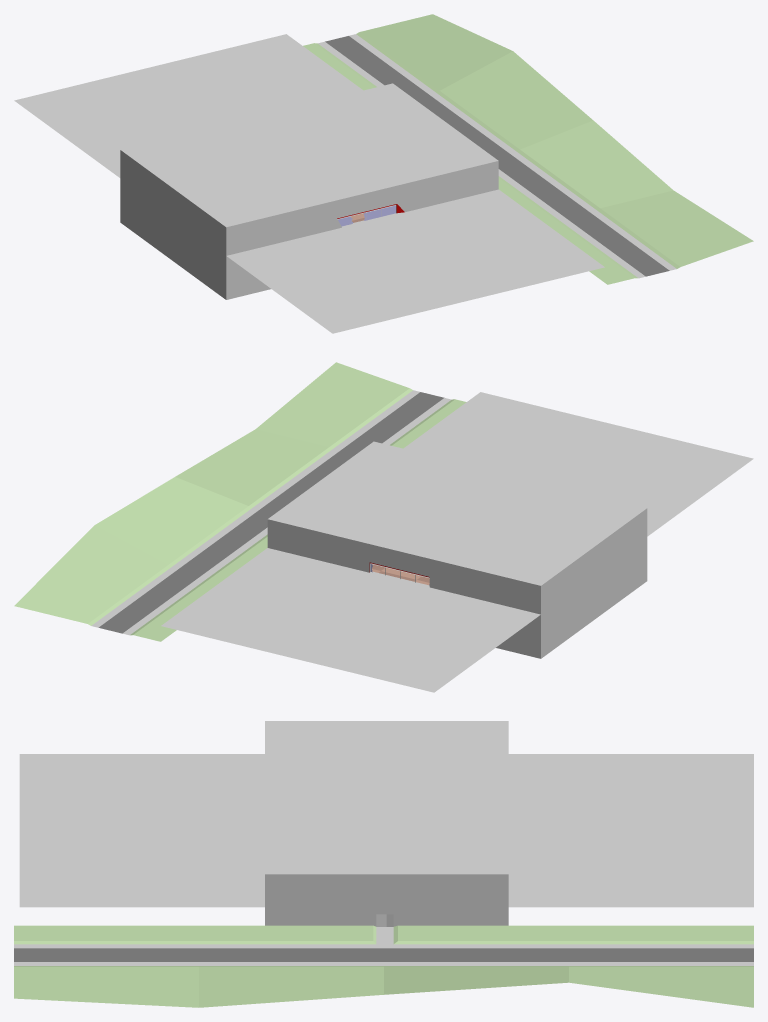
The model's file is Club.fbx.
3 views of the same model, one above another, from view 1: azimuth 30°, elevation 25°; view 2: azimuth 150°, elevation 25°; view 3: azimuth 270°, elevation 25° (orthographic). The views are drawn at different scales.
Parts seen in each view (by area): view 1: Club; view 2: Club; view 3: Club.
Part boxes in pixels (left/top/right/bottom): Club: left=14, top=14, right=753, bottom=333; Club: left=14, top=362, right=753, bottom=692; Club: left=14, top=721, right=753, bottom=1007.
Size of the model in its own units: 117 by 19.42 by 155.
